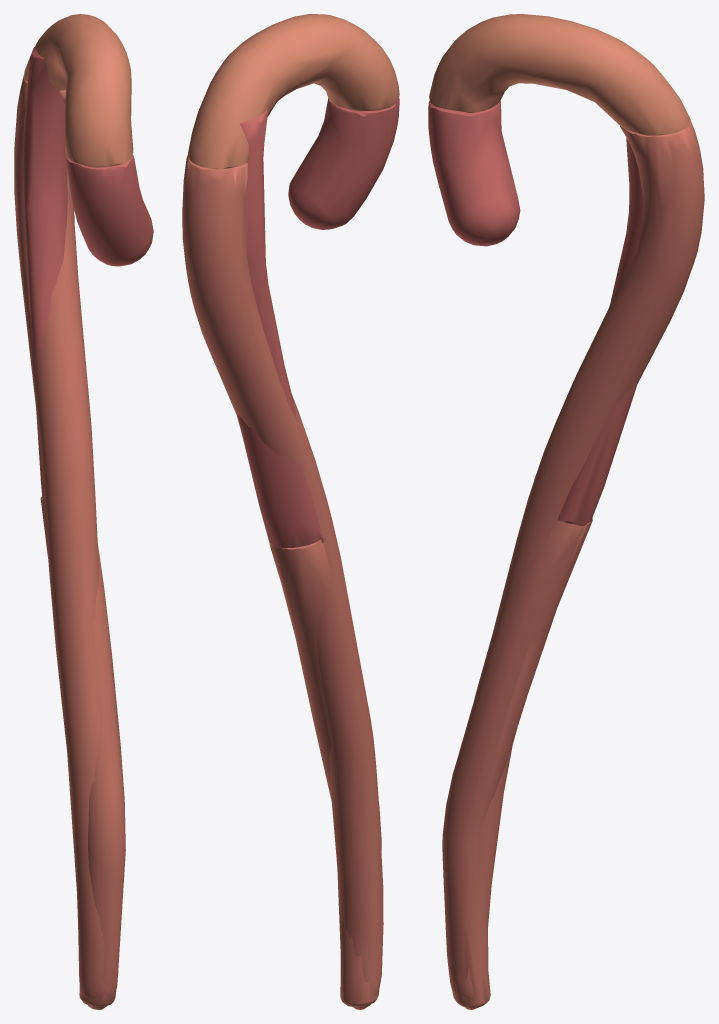
Rendered from aorta.glb.
3 renders of one model, left to right at view 1: azimuth 30°, elevation 25°; view 2: azimuth 150°, elevation 25°; view 3: azimuth 270°, elevation 25°, orthographic. The views are drawn at different scales.
Parts seen in each view (by area): view 1: FJ3427 Descending aorta, FJ3411 Arch of aorta, FJ1932 Abdominal aorta, FJ1931 Descending thoracic aorta, FJ3413 Ascending aorta; view 2: FJ3427 Descending aorta, FJ3411 Arch of aorta, FJ1931 Descending thoracic aorta, FJ3413 Ascending aorta, FJ1932 Abdominal aorta; view 3: FJ3427 Descending aorta, FJ1932 Abdominal aorta, FJ3411 Arch of aorta, FJ3413 Ascending aorta, FJ1931 Descending thoracic aorta.
Boxes of the visible parts, x1=… form: FJ3427 Descending aorta: x1=14, y1=74, x2=118, y2=1009; FJ3411 Arch of aorta: x1=24, y1=14, x2=133, y2=167; FJ1932 Abdominal aorta: x1=40, y1=496, x2=125, y2=1006; FJ1931 Descending thoracic aorta: x1=22, y1=46, x2=67, y2=504; FJ3413 Ascending aorta: x1=66, y1=154, x2=153, y2=266; FJ3427 Descending aorta: x1=182, y1=155, x2=383, y2=1009; FJ3411 Arch of aorta: x1=188, y1=14, x2=399, y2=169; FJ1931 Descending thoracic aorta: x1=236, y1=109, x2=323, y2=548; FJ3413 Ascending aorta: x1=288, y1=97, x2=399, y2=229; FJ1932 Abdominal aorta: x1=269, y1=539, x2=381, y2=1007; FJ3427 Descending aorta: x1=450, y1=120, x2=704, y2=1009; FJ1932 Abdominal aorta: x1=442, y1=518, x2=592, y2=1008; FJ3411 Arch of aorta: x1=429, y1=14, x2=690, y2=135; FJ3413 Ascending aorta: x1=428, y1=101, x2=520, y2=246; FJ1931 Descending thoracic aorta: x1=557, y1=137, x2=642, y2=526.
Size of the model in its own units: 0.0417 by 0.3703 by 0.0923.
